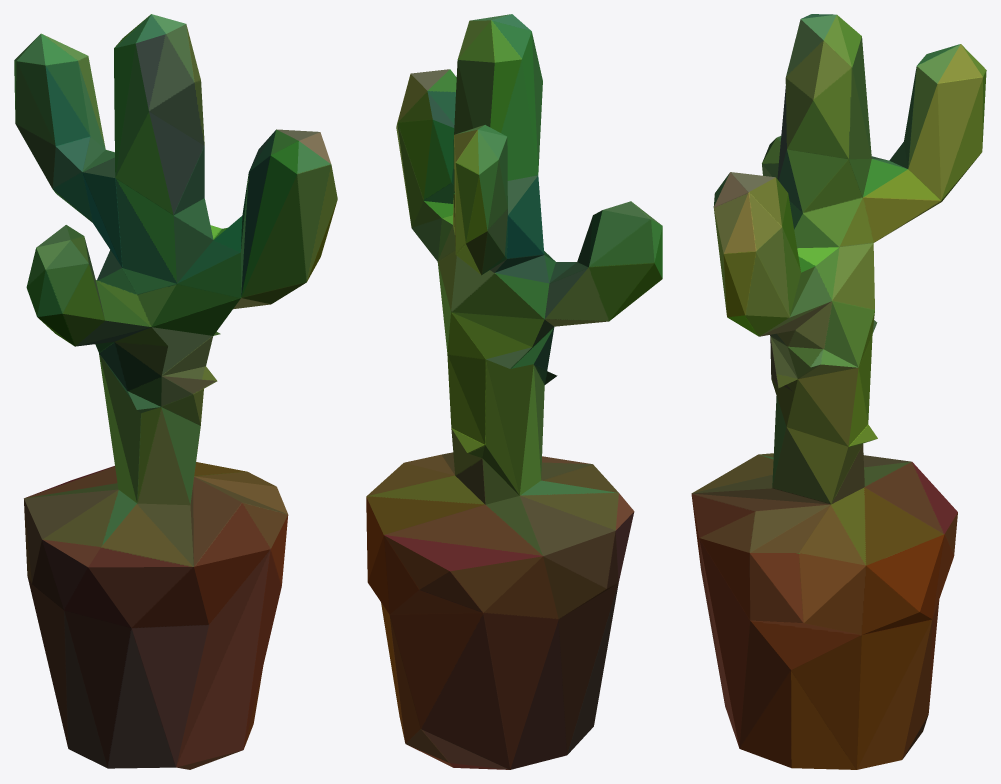
The model's file is Cactus.fbx.
3 renders of one model, left to right at view 1: azimuth 30°, elevation 25°; view 2: azimuth 150°, elevation 25°; view 3: azimuth 270°, elevation 25°, orthographic.
Parts seen in each view (by area): view 1: Mesh_0; view 2: Mesh_0; view 3: Mesh_0.
Part boxes in pixels (x1=…): Mesh_0: x1=14, y1=14, x2=337, y2=769; Mesh_0: x1=366, y1=14, x2=662, y2=769; Mesh_0: x1=691, y1=14, x2=986, y2=769.
Size of the model in its own units: 68.23 by 171 by 62.01.
Materials: 1 (1 with a texture image).
